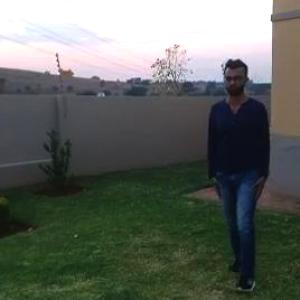follow: (208, 60, 274, 253)
